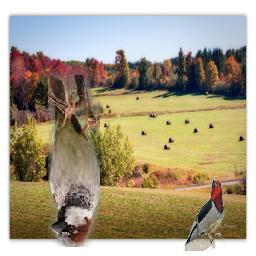Sparrow: (48, 75, 100, 247)
Woodpecker: (183, 175, 226, 251)
